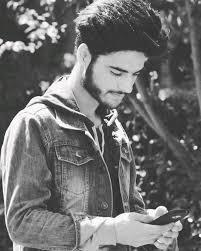Human: (3, 0, 189, 251)
